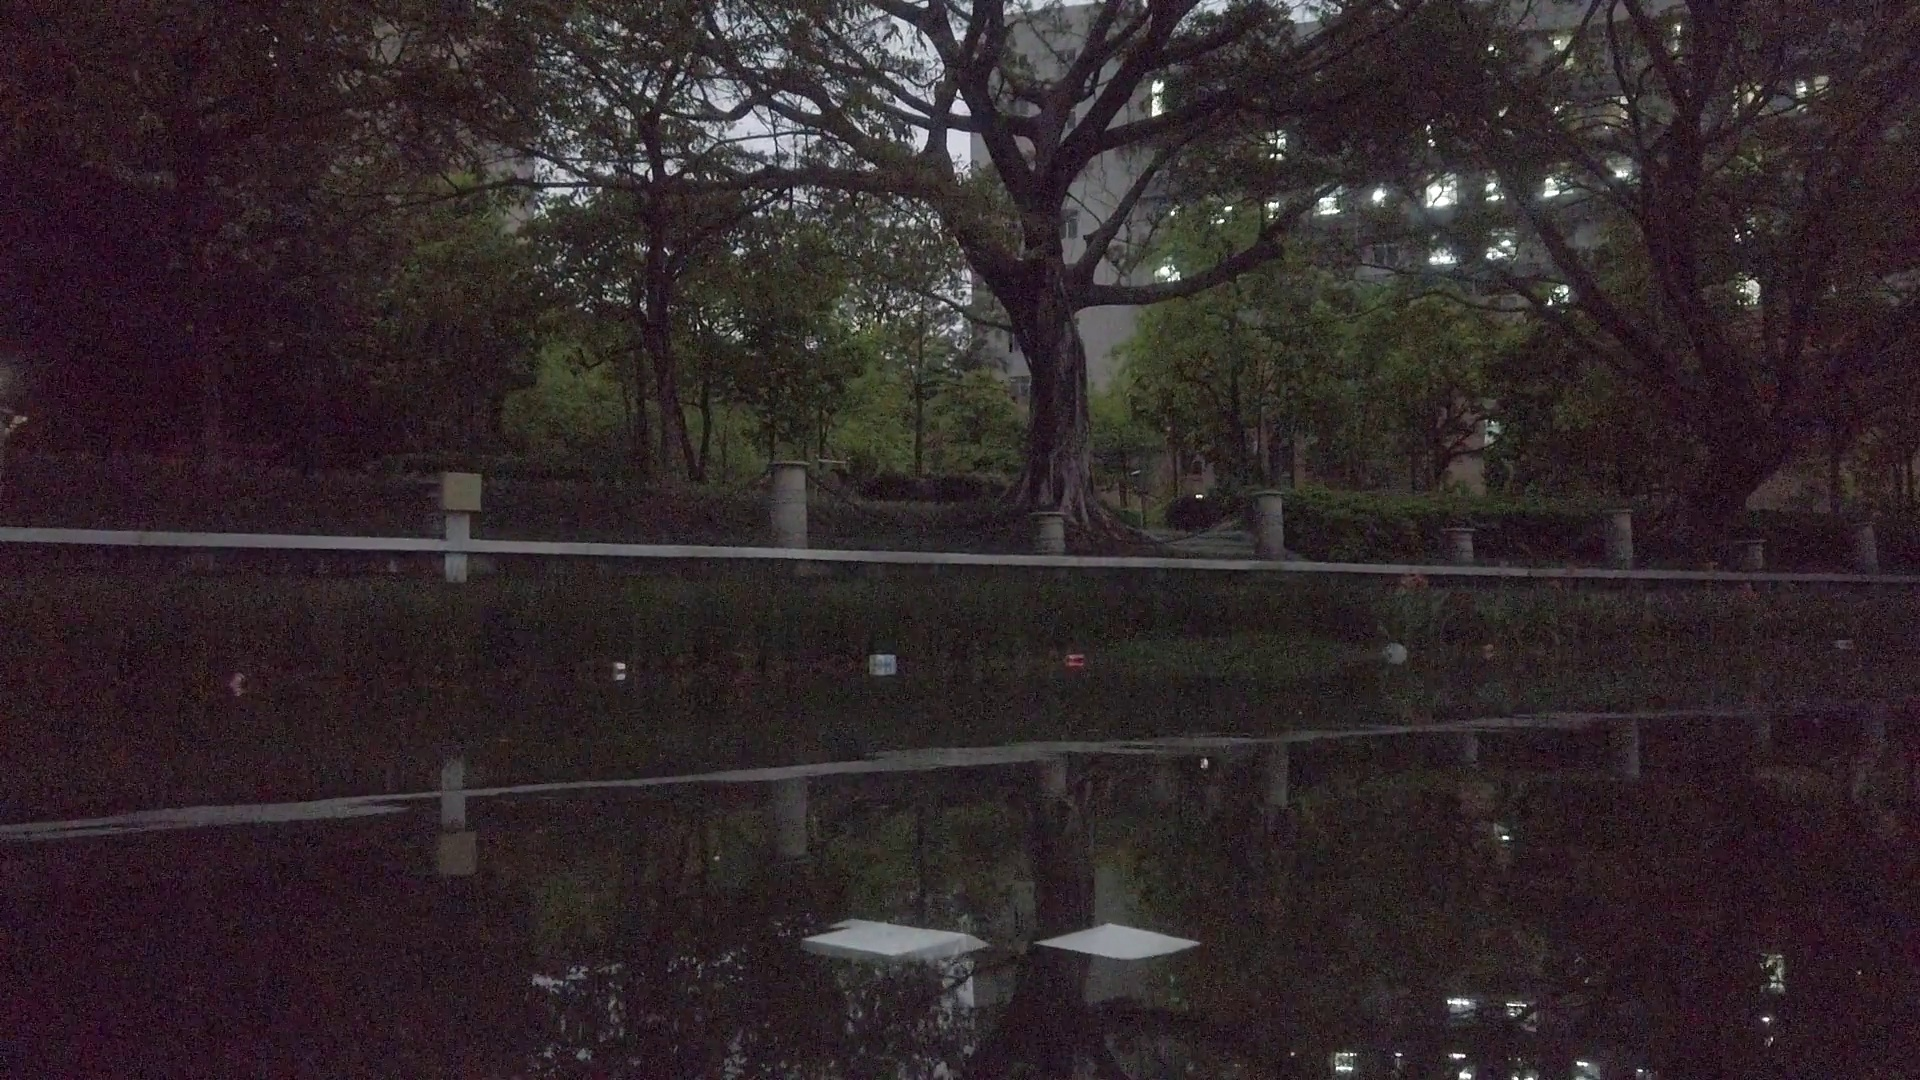bottle: (220, 670, 251, 688), (1062, 651, 1087, 667), (1826, 638, 1859, 649), (1476, 644, 1495, 657)
carton: (870, 651, 898, 665), (612, 661, 625, 673)
paper: (799, 911, 977, 967), (1033, 914, 1205, 965)
plastic: (1377, 642, 1415, 666)
